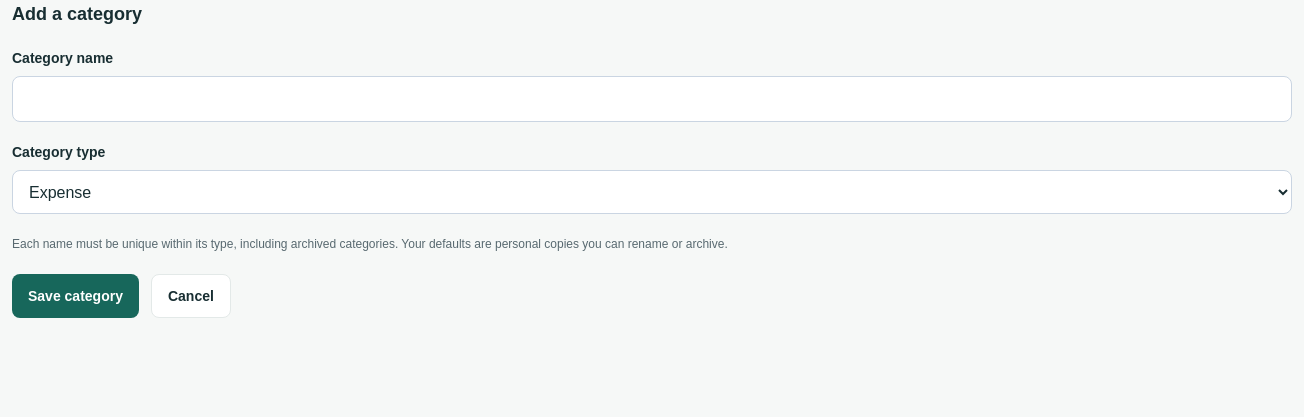
it: shows duplicate errors without losing entered category fields
Type "Housing" into the field labelled "Category name".
click(652, 99); type("Housing")  # box x1=12 y1=76 x2=1292 y2=122
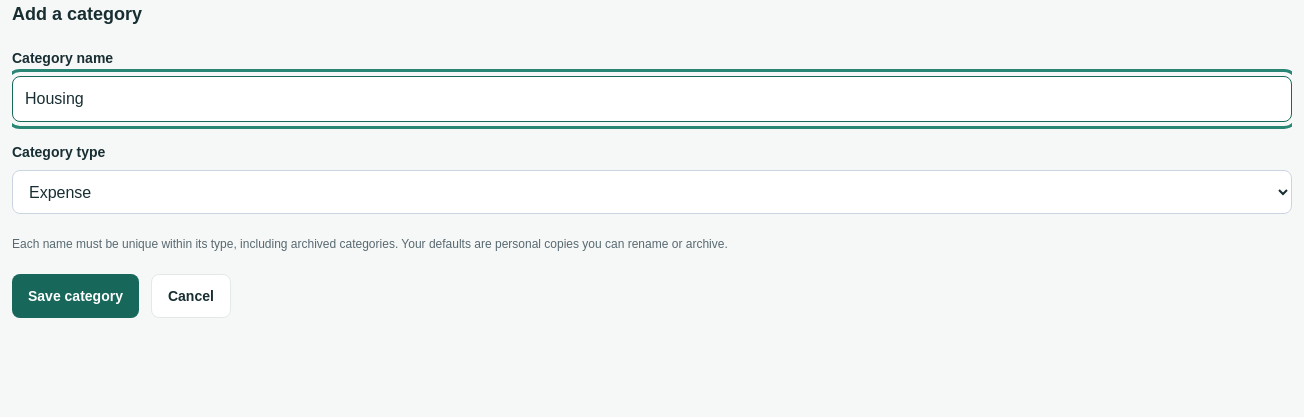
Click the button "Save category".
click(76, 296)  # box x1=12 y1=274 x2=139 y2=318
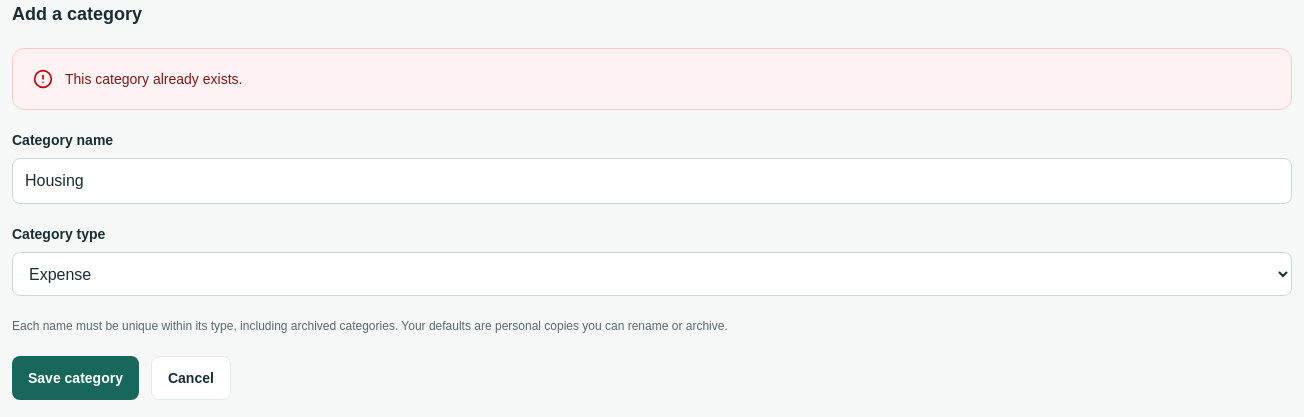
Now the message shows "already exists", box x1=65 y1=71 x2=242 y2=87
